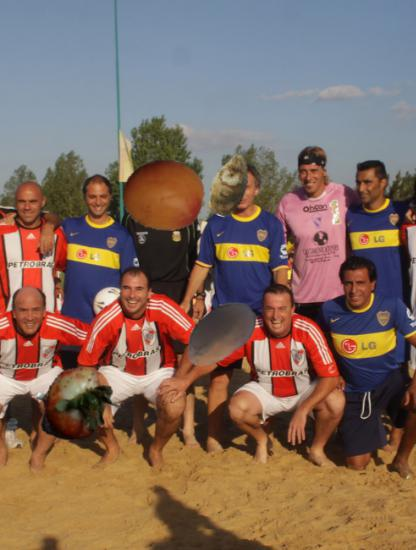Apricot: (122, 153, 206, 237)
Ginger: (197, 153, 262, 218)
Hazelnut: (178, 292, 263, 377)
Strawberry: (36, 363, 121, 448)
